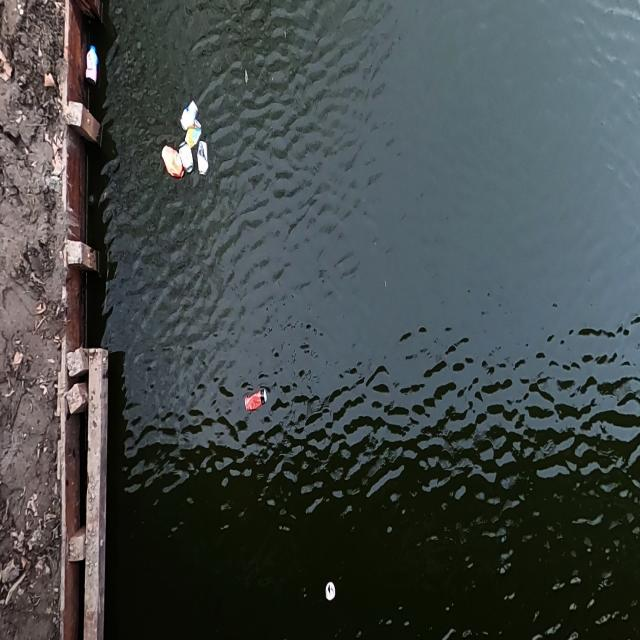Bouteille plastique: (82, 44, 101, 88)
Non plastique: (176, 91, 200, 140), (238, 381, 269, 418), (174, 134, 194, 190), (158, 143, 184, 184), (194, 138, 216, 186), (180, 120, 208, 153)
